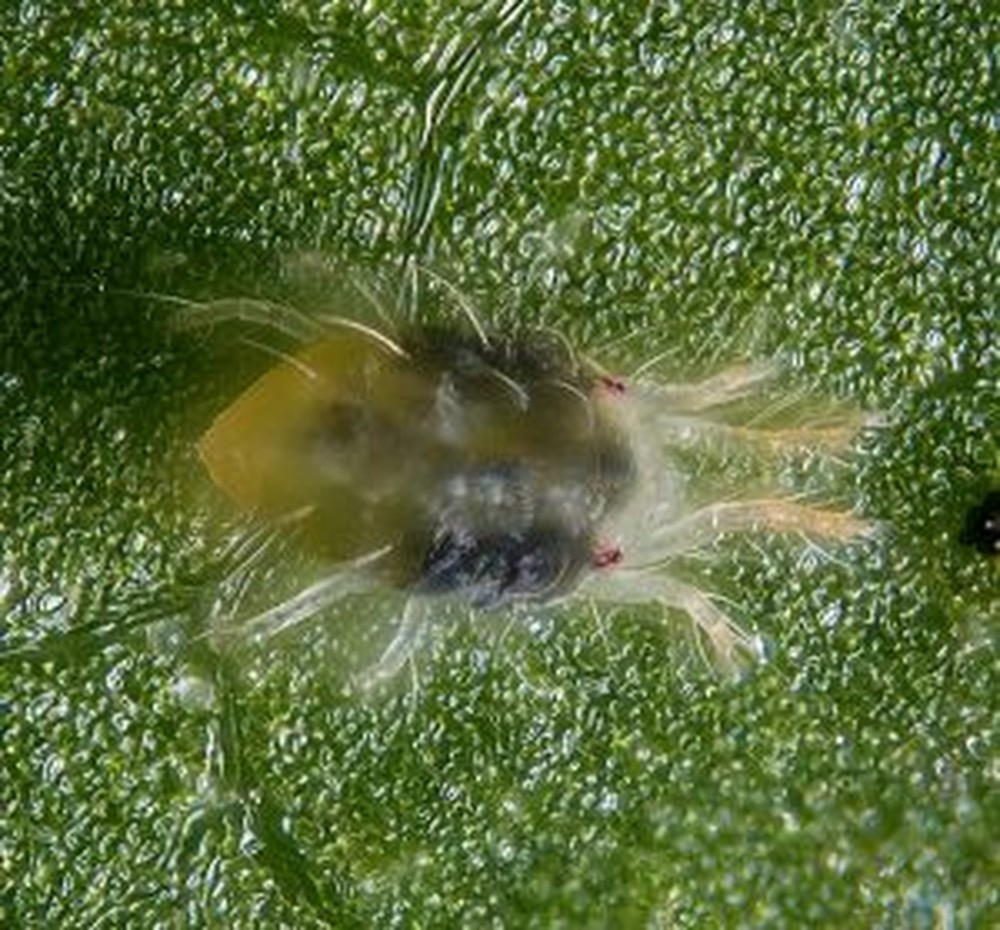Aracnido Rojo: (107, 236, 900, 717)
